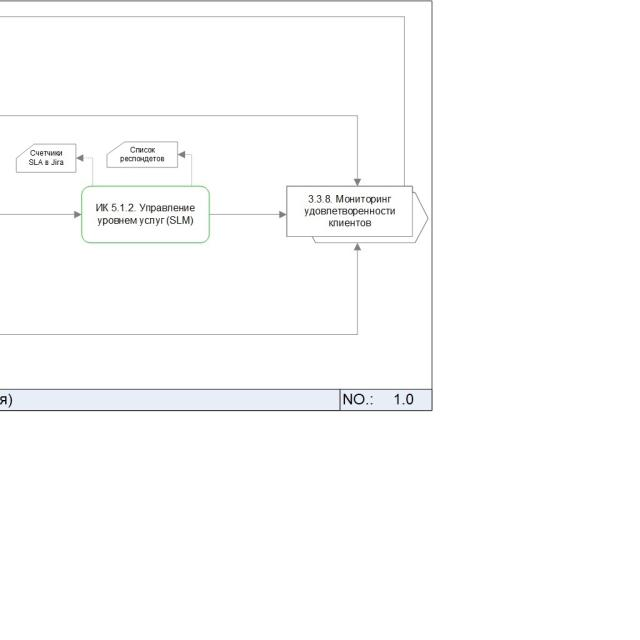arrow: (210, 208, 287, 220)
rectangle: (81, 185, 210, 244), (286, 185, 414, 238)
